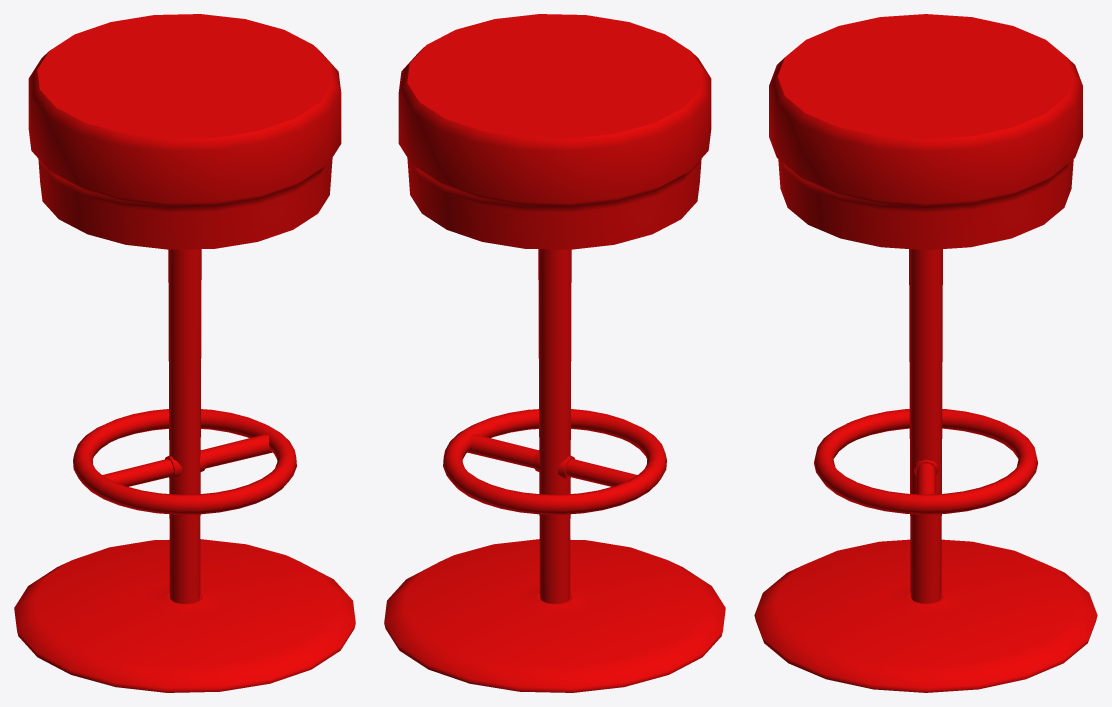
The model's file is Stool_01_Lod0.fbx.
3 views of the same model, side by side, from view 1: azimuth 30°, elevation 25°; view 2: azimuth 150°, elevation 25°; view 3: azimuth 270°, elevation 25° (orthographic).
Visible parts, largest first — view 1: Stool_01_Lod0; view 2: Stool_01_Lod0; view 3: Stool_01_Lod0.
Part boxes in pixels (x1,y1,x2,y2): Stool_01_Lod0: (14, 14, 355, 692); Stool_01_Lod0: (384, 14, 725, 692); Stool_01_Lod0: (754, 14, 1097, 692).
Size of the model in its own units: 46.37 by 81.16 by 46.37.
